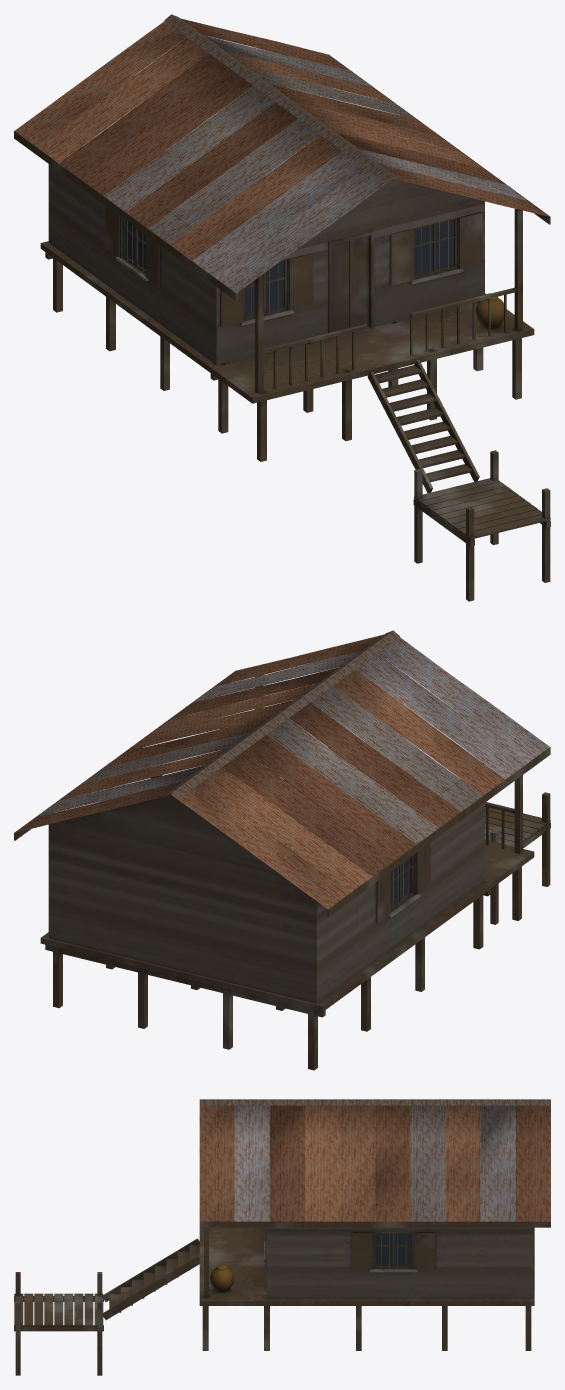
Rendered from house_2.glb.
3 views of the same model, one above another, from view 1: azimuth 30°, elevation 25°; view 2: azimuth 150°, elevation 25°; view 3: azimuth 270°, elevation 25° (orthographic). The views are drawn at different scales.
Visible parts, largest first — view 1: house_2_body, house_2_roof, house_2_windows; view 2: house_2_body, house_2_roof, house_2_windows; view 3: house_2_roof, house_2_body, house_2_windows.
Part boxes in pixels (x1,y1,x2,y2): house_2_body: (14, 54, 550, 601); house_2_roof: (15, 14, 549, 293); house_2_windows: (125, 220, 453, 316); house_2_body: (14, 670, 550, 1070); house_2_roof: (15, 630, 549, 909); house_2_windows: (390, 857, 410, 906); house_2_roof: (199, 1099, 550, 1221); house_2_body: (14, 1204, 550, 1375); house_2_windows: (375, 1233, 411, 1265).
Bounding box in the file's own units: 7.03 × 7.04 × 13.14.
3 materials, 2 textured.
